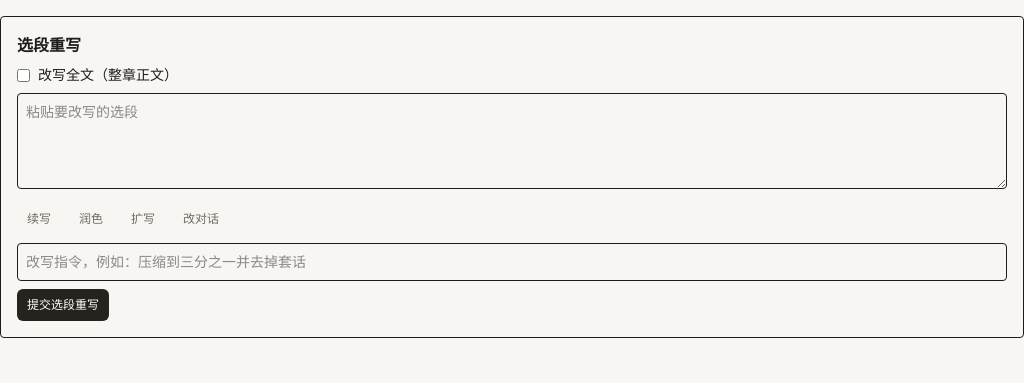
Test case: SelectionRewrite › 空选段/指令 → 校验提示
What coordinates should you click on to do the following:
click the button "提交选段重写"
I would click on:
 (63, 305)
Its box is [17,289,109,321].
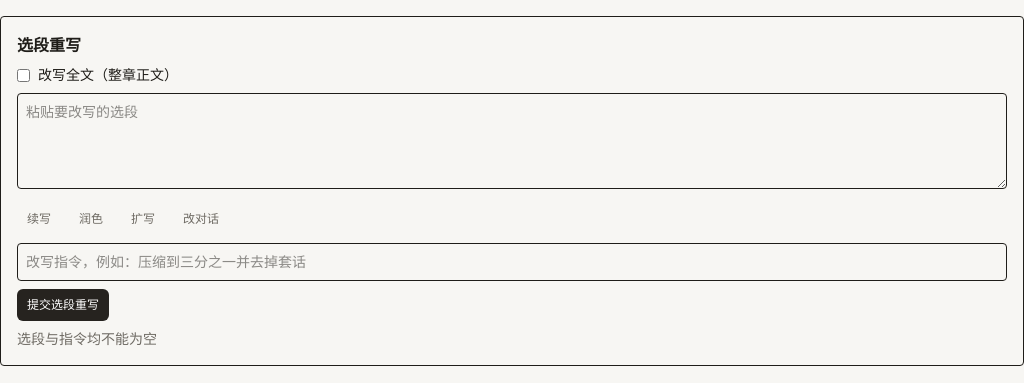
Result: the text "选段与指令均不能为空" is shown at [17,329,157,348]
